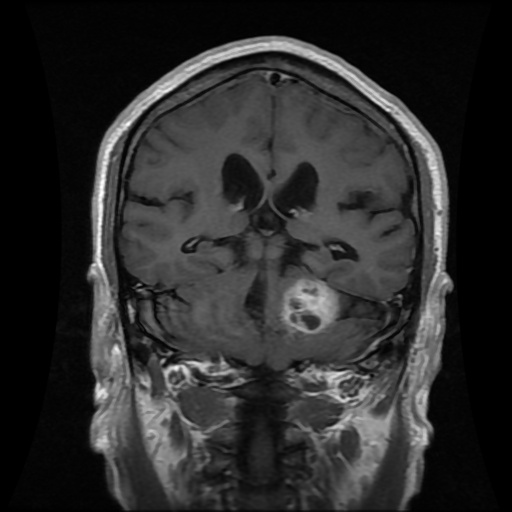meningioma: (282, 278, 340, 334)
